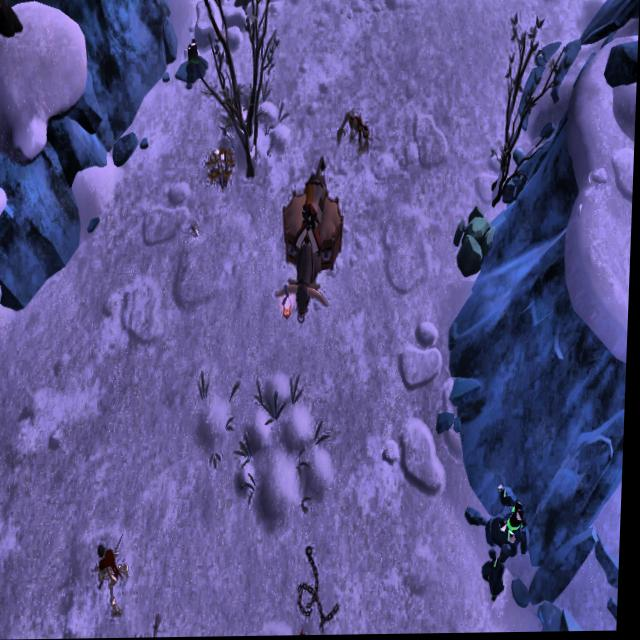enemy_factionUndead: (98, 537, 136, 622), (342, 110, 377, 160)
ore_t3: (185, 37, 201, 68)
rock_t3: (455, 199, 499, 291)
